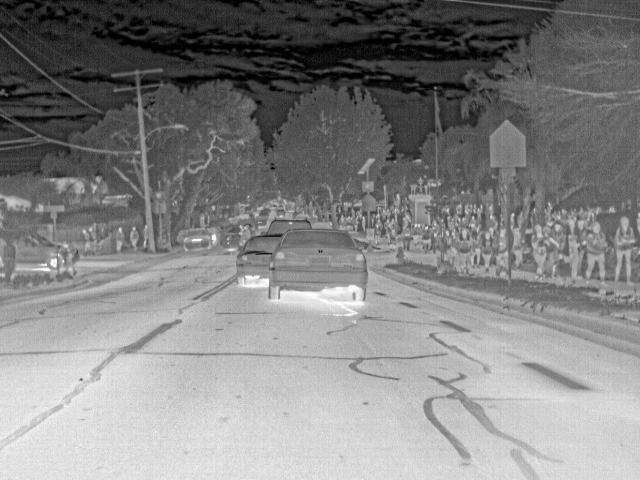car: (268, 229, 368, 303), (236, 232, 282, 288), (13, 231, 79, 269), (185, 227, 212, 251), (268, 218, 315, 230), (220, 225, 237, 250), (237, 218, 257, 232), (207, 226, 220, 246), (253, 215, 267, 226), (275, 207, 285, 217)
person: (612, 215, 637, 285), (583, 221, 606, 285), (546, 220, 566, 282), (532, 222, 547, 280), (568, 221, 582, 281), (494, 224, 507, 277), (576, 218, 588, 275), (58, 240, 76, 276), (480, 229, 494, 272), (458, 228, 470, 276), (511, 228, 524, 270), (470, 230, 483, 267), (429, 220, 440, 250), (400, 223, 411, 251), (451, 229, 459, 262), (129, 224, 139, 250), (444, 228, 452, 260), (115, 224, 124, 252), (422, 223, 430, 253), (373, 221, 382, 246), (142, 223, 150, 249), (86, 225, 97, 243), (412, 222, 419, 247), (417, 222, 423, 247), (238, 224, 245, 244), (508, 212, 516, 229), (82, 226, 91, 241), (338, 214, 347, 228), (352, 216, 361, 230), (244, 224, 251, 238), (469, 214, 476, 228), (361, 216, 367, 230)
